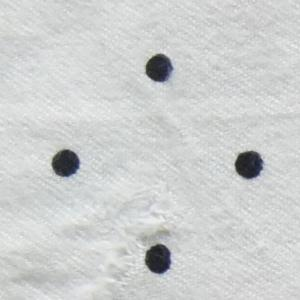Damage: (104, 206, 192, 293)
